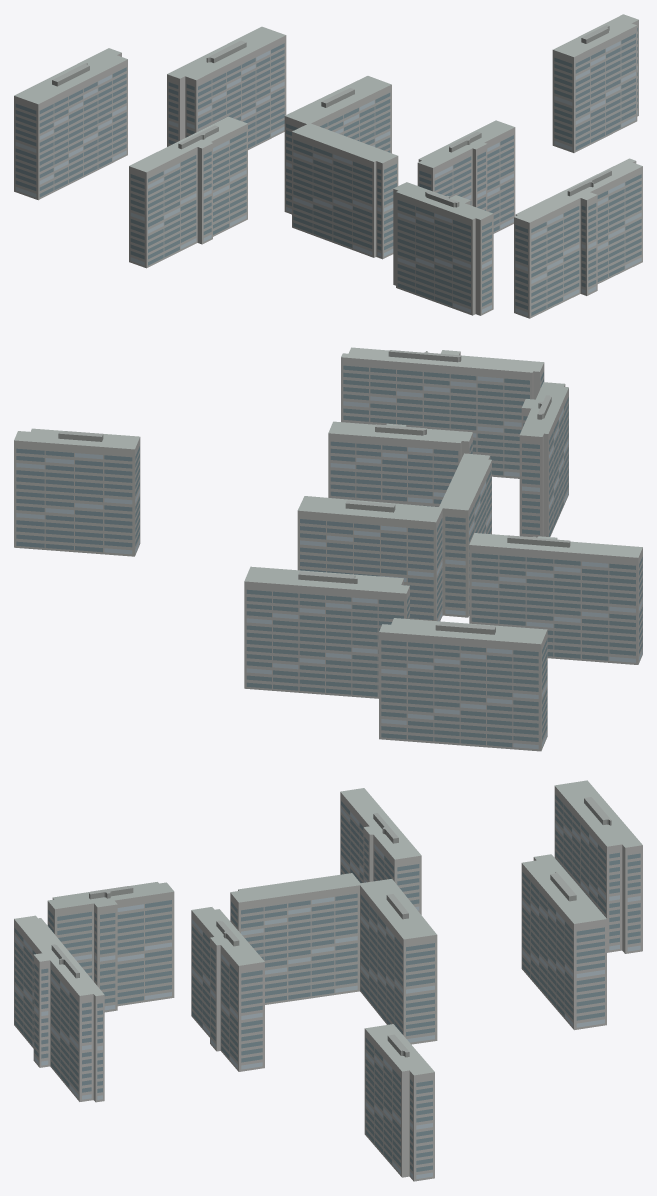
Rendered from apt-a13980512.glb.
3 renders of one model, top to bottom at view 1: azimuth 30°, elevation 25°; view 2: azimuth 150°, elevation 25°; view 3: azimuth 270°, elevation 25°, orthographic. The views are drawn at different scales.
Visible parts, largest first — view 1: apt-a13980512; view 2: apt-a13980512; view 3: apt-a13980512.
Boxes of the visible parts, x1,y1,x2,y2 form: apt-a13980512: (14, 14, 642, 318); apt-a13980512: (14, 347, 642, 751); apt-a13980512: (14, 780, 642, 1181).
Size of the model in its own units: 233 by 41 by 210.
